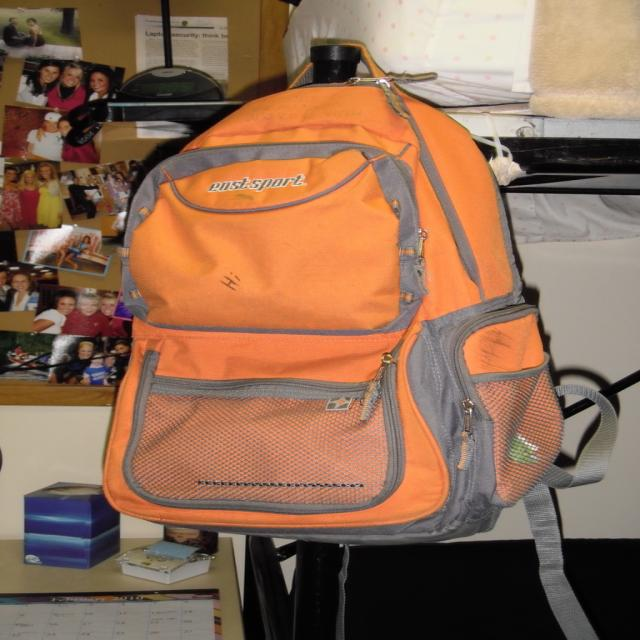backpack: (83, 39, 567, 539)
